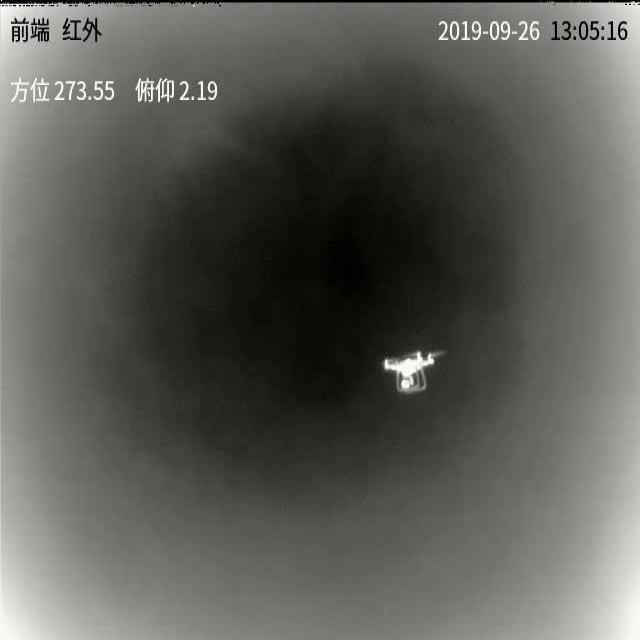drone: (384, 354, 438, 398)
